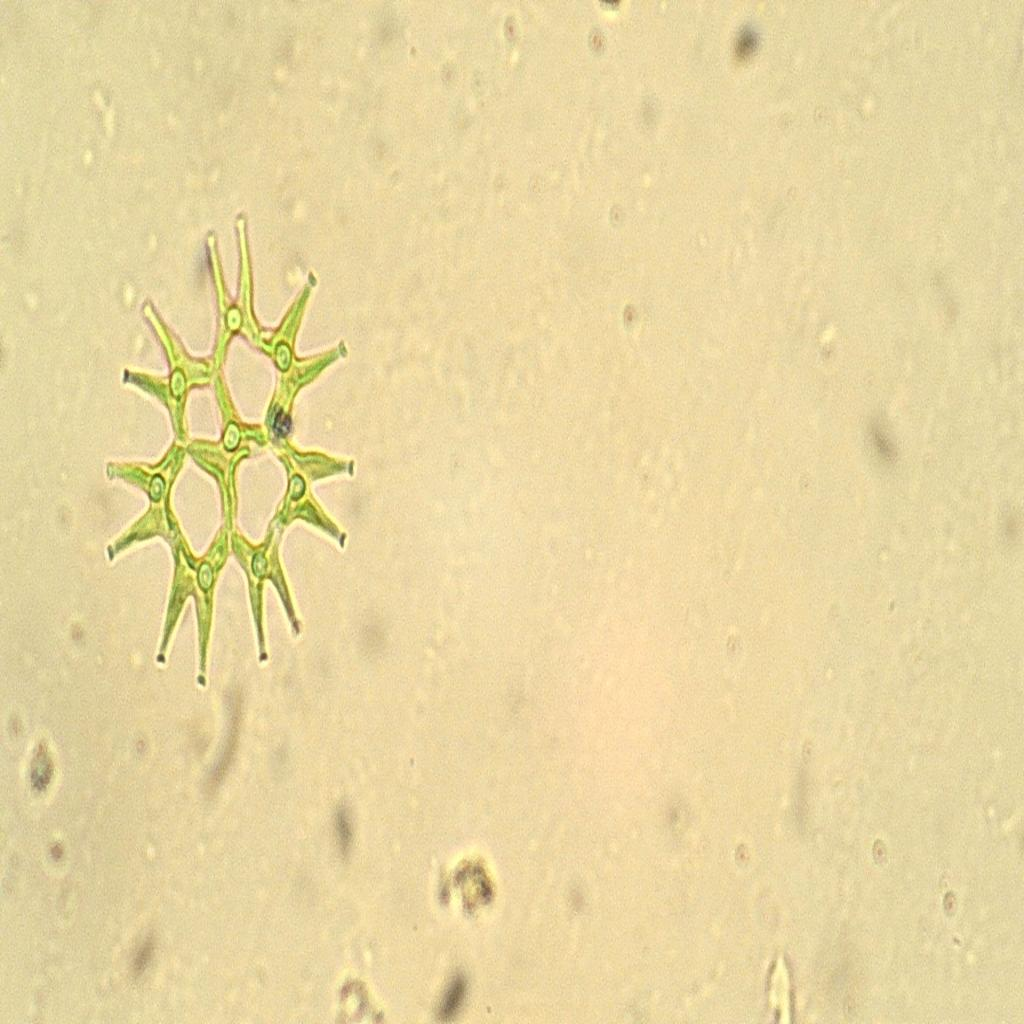Pediastrum_CTH: (98, 210, 366, 699)
